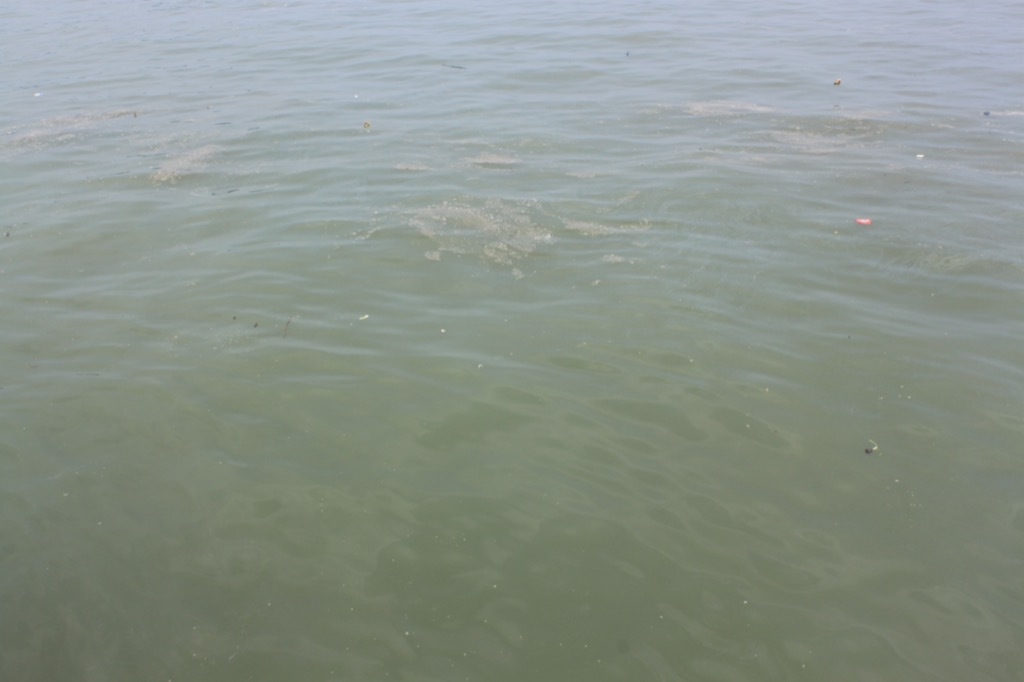organic: (857, 434, 879, 458)
plastic: (344, 299, 382, 337), (845, 205, 880, 237), (905, 137, 934, 169), (822, 62, 850, 94), (357, 115, 380, 133), (26, 87, 49, 103), (434, 321, 451, 338), (471, 357, 486, 373), (742, 416, 754, 434), (683, 353, 696, 368), (757, 385, 772, 396)
